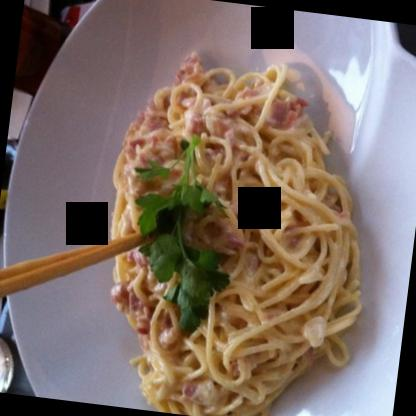pasta: (81, 44, 382, 415)
